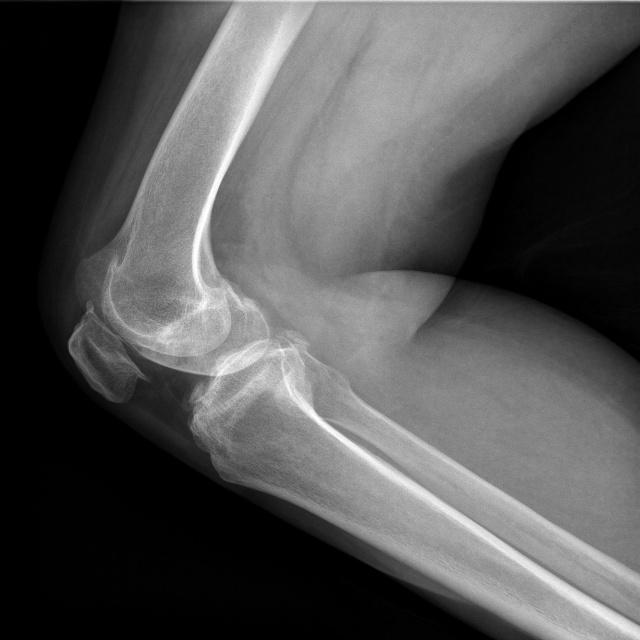Knee: (63, 247, 315, 470)
